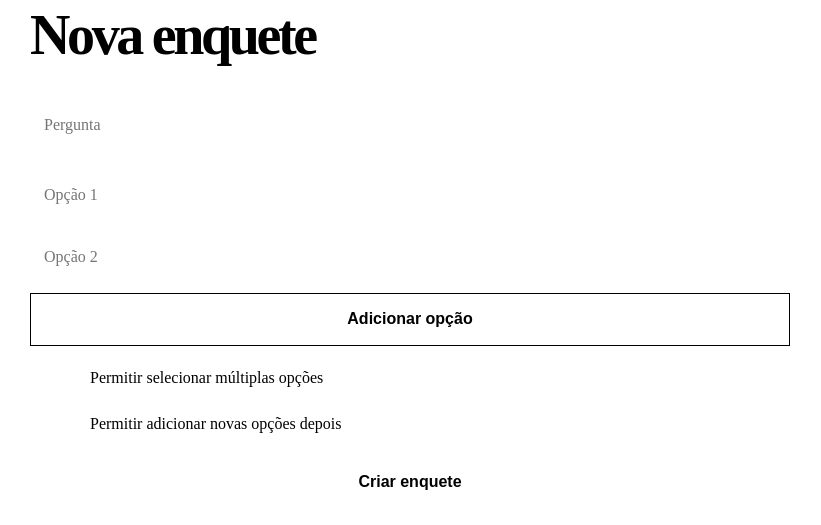
Test: poll presentation › shows an unscoped API error in a tooltip above the submit button
Type "Qual jogo escolheremos?" into the field labelled "Pergunta" at (410, 125), box [30,100,790,151]
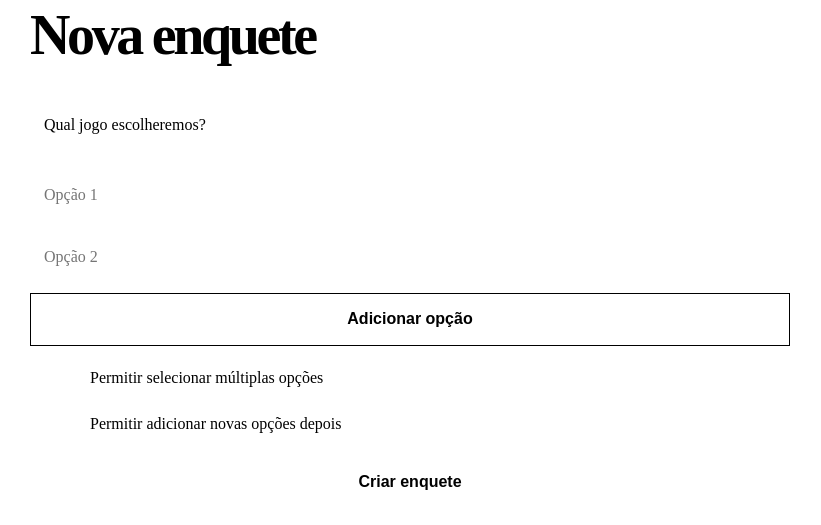
Type "Hades" into the field labelled "Opção 1" at (410, 195), box [30,170,790,221]
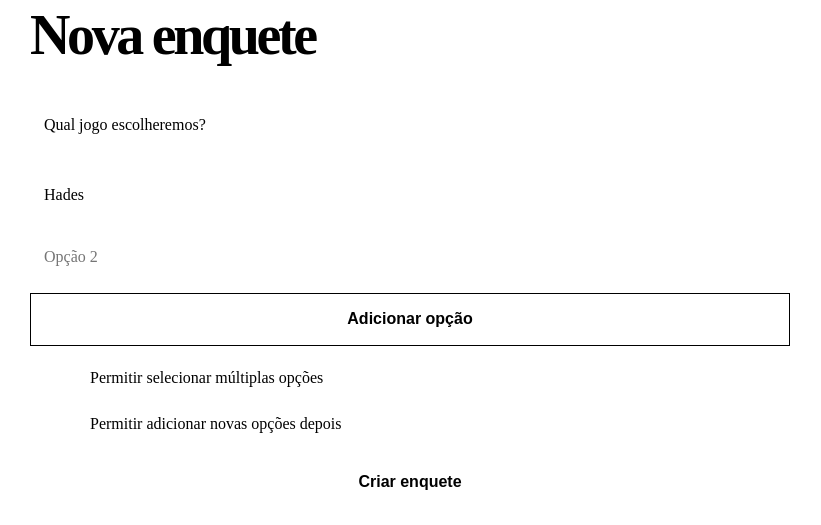
Type "Celeste" into the field labelled "Opção 2" at (410, 257), box [30,232,790,283]
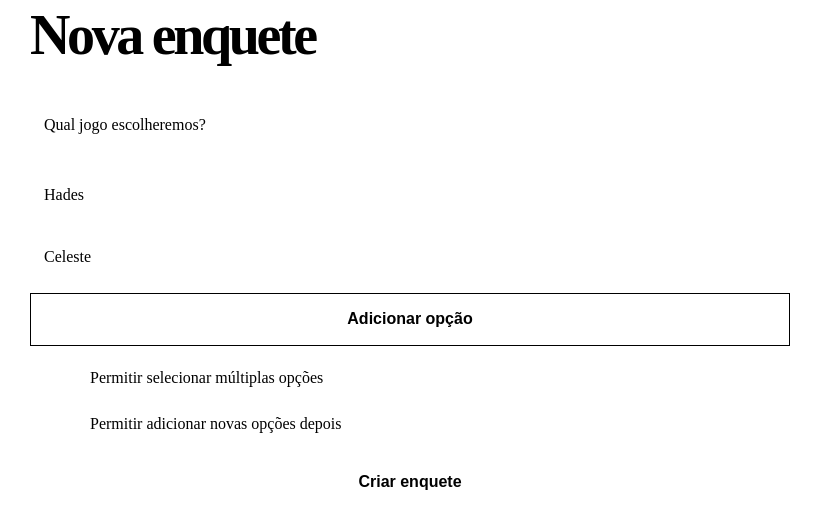
Click the button "Criar enquete" at (410, 482), box [30,456,790,508]
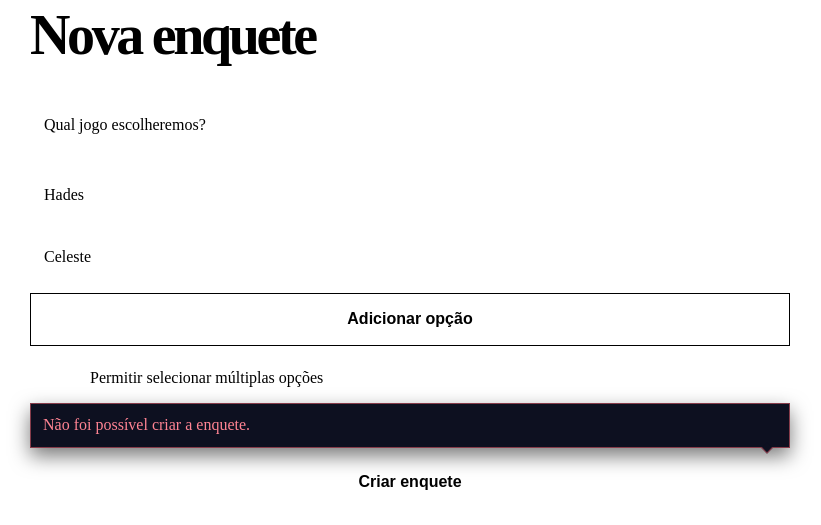
Expected: the message reads "Não foi possível criar a enquete.", [43,416,250,433]
Click the field named "Pergunta" at (410, 125), box [30,100,790,151]
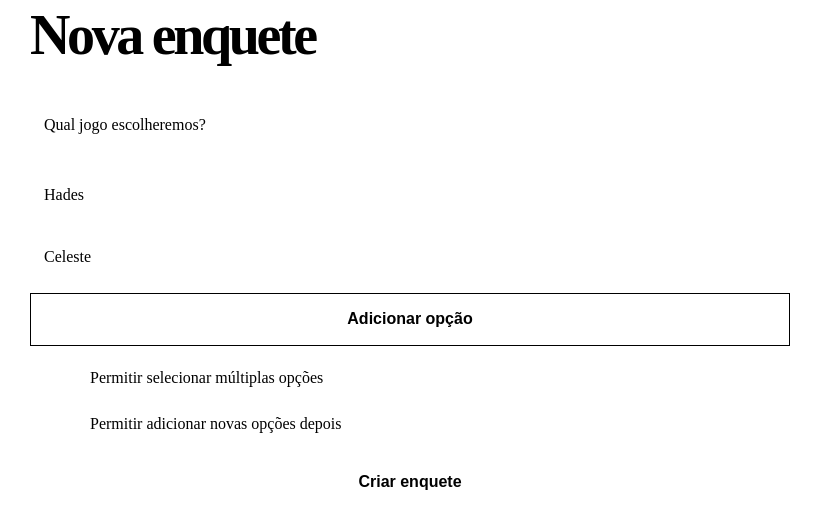
Expected: the message "Não foi possível criar a enquete." is gone
